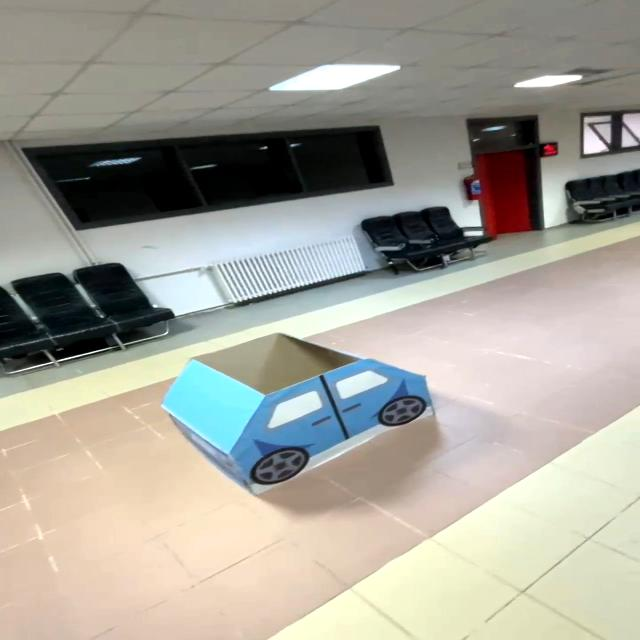blue_car: (132, 324, 455, 512)
